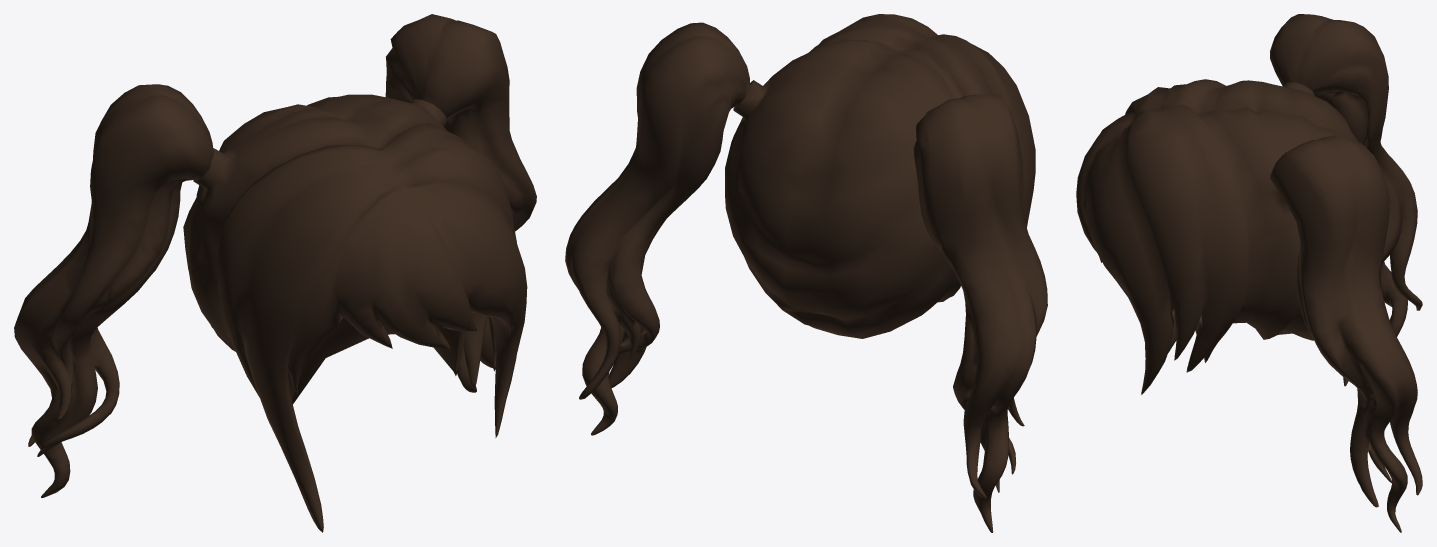
File: hair_w10.glb
The picture shows the model from 3 angles, left to right: view 1: azimuth 30°, elevation 25°; view 2: azimuth 150°, elevation 25°; view 3: azimuth 270°, elevation 25°; orthographic projection. The views are drawn at different scales.
Parts seen in each view (by area): view 1: hair_w10; view 2: hair_w10; view 3: hair_w10.
Part boxes in pixels (x1,y1,x2,y2): hair_w10: (14, 14, 536, 532); hair_w10: (565, 14, 1047, 532); hair_w10: (1076, 14, 1422, 532).
Size of the model in its own units: 0.3433 by 0.2736 by 0.2375.
